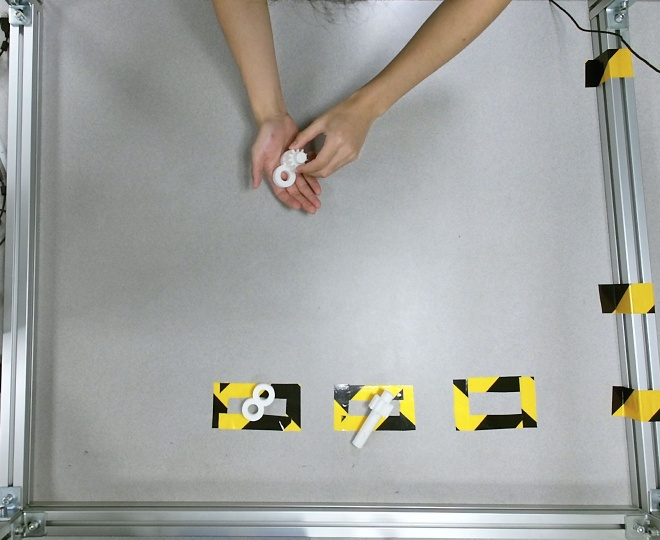stage_2: (272, 149, 308, 187)
